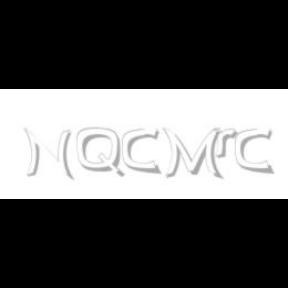C: (122, 128, 160, 174), (235, 128, 272, 174)
M: (162, 128, 222, 180)
N: (23, 128, 72, 180)
Q: (77, 128, 123, 178)
r: (214, 128, 240, 158)
